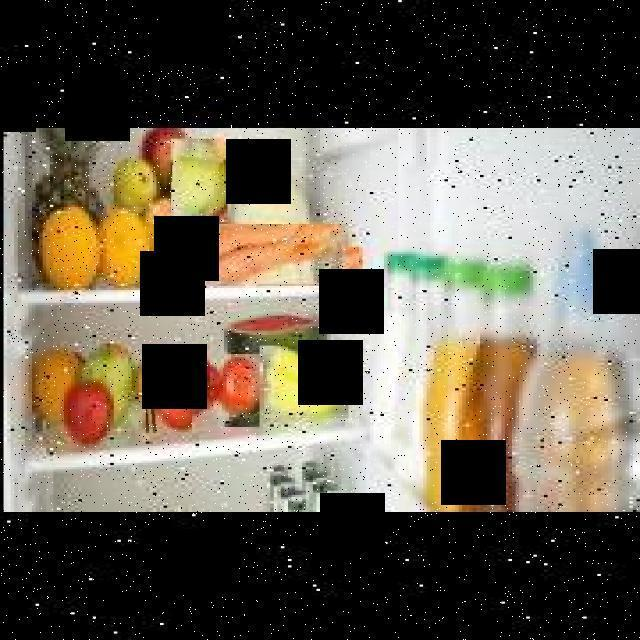apple: (171, 139, 224, 224)
bell_pepper: (260, 347, 348, 419)
carrot: (210, 224, 341, 284), (249, 247, 359, 286)
tomato: (142, 356, 192, 433), (217, 354, 259, 427)
